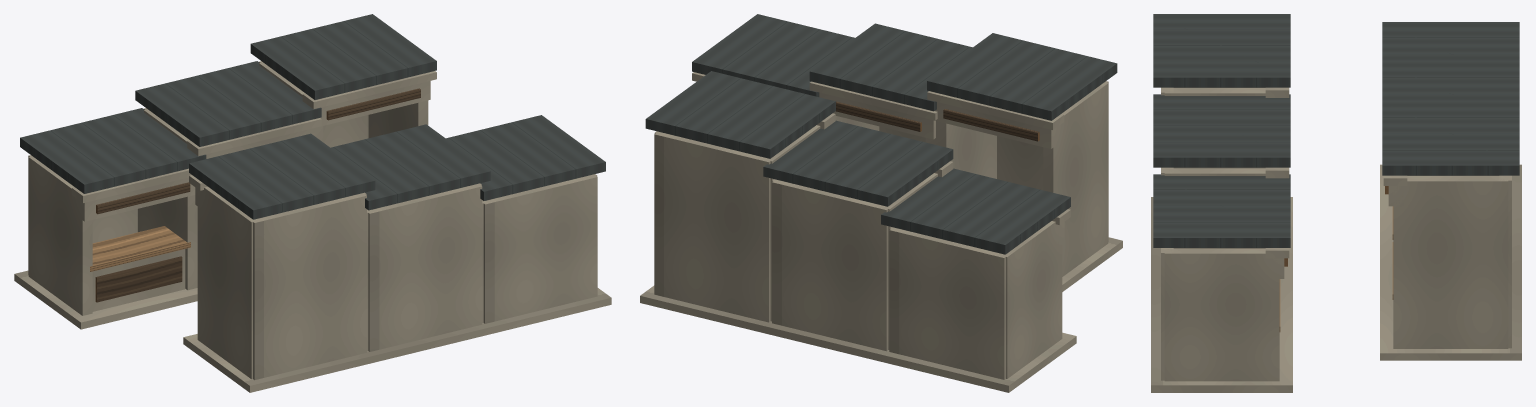
3 views of the same model, side by side, from view 1: azimuth 30°, elevation 25°; view 2: azimuth 150°, elevation 25°; view 3: azimuth 270°, elevation 25° (orthographic). The views are drawn at different scales.
Parts seen in each view (by area): view 1: dakar; view 2: dakar; view 3: dakar.
Part boxes in pixels (x1,y1,x2,y2): dakar: [14, 14, 611, 392]; dakar: [640, 14, 1122, 392]; dakar: [1151, 14, 1521, 392].
Size of the model in its own units: 6.13 by 2.5 by 4.36.
Materials: 1 (1 with a texture image).
